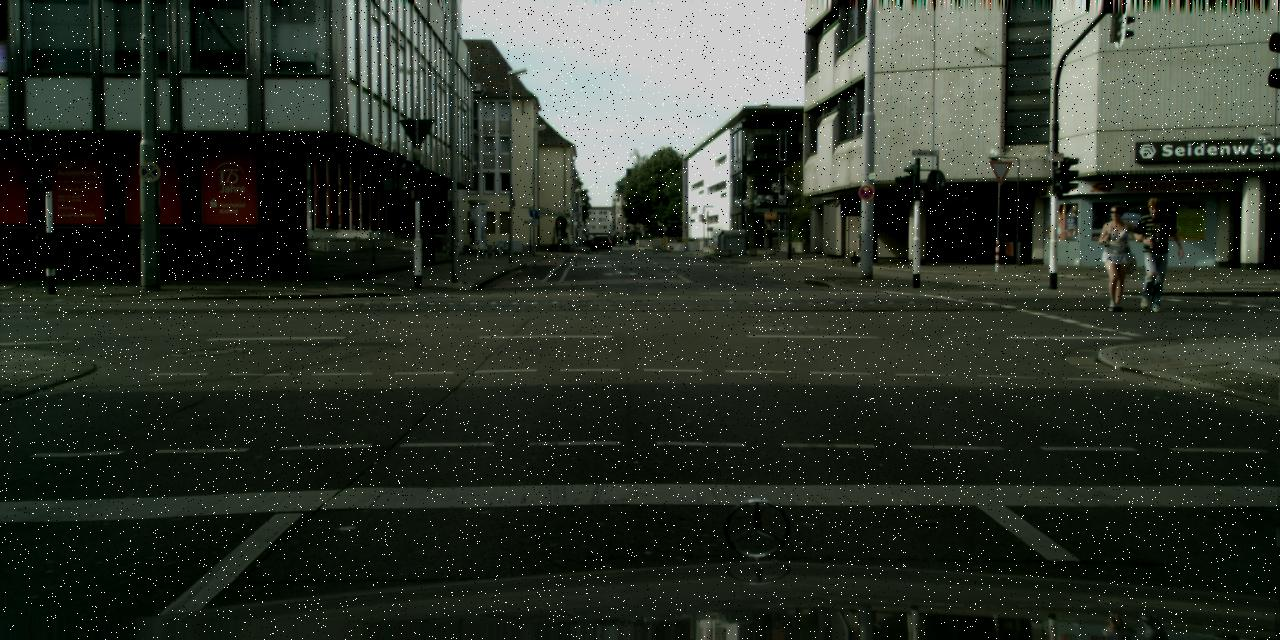ped: (1129, 198, 1174, 310), (1094, 204, 1136, 310), (856, 226, 872, 266)
